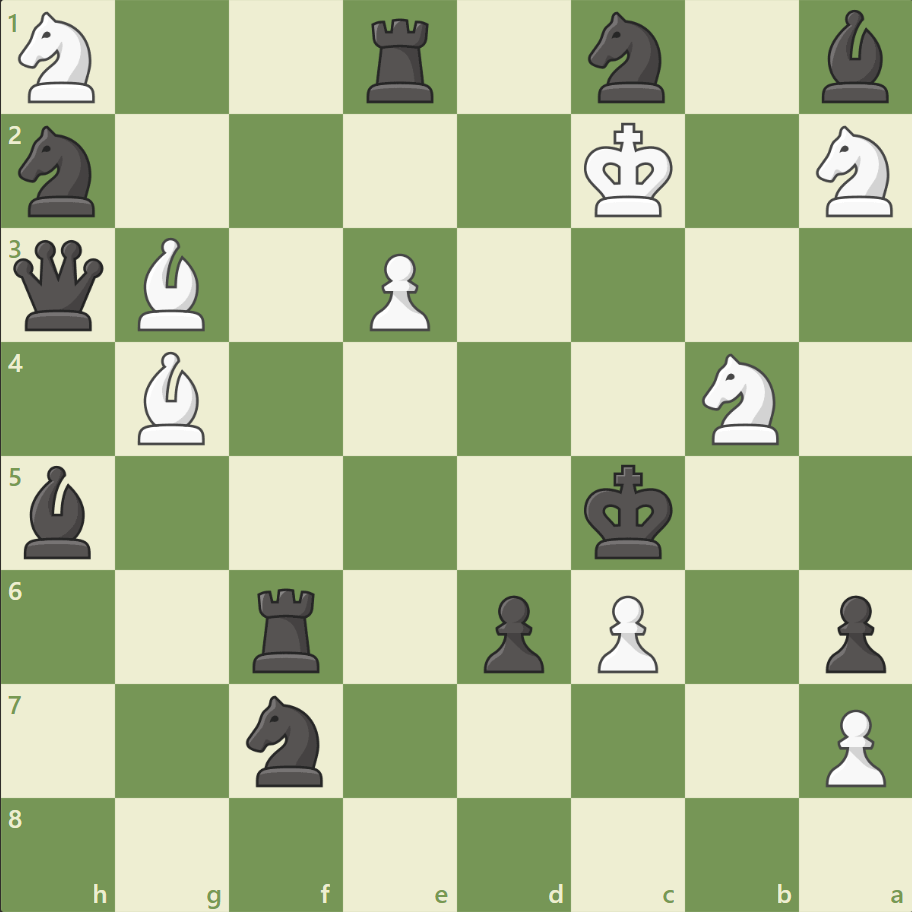B: (131, 233, 215, 336), (131, 347, 215, 449)
K: (579, 117, 679, 225)
N: (11, 7, 108, 110), (692, 348, 789, 450), (806, 121, 903, 223)
P: (815, 700, 889, 791), (588, 586, 662, 677), (361, 246, 435, 337)
b: (17, 460, 101, 563), (812, 6, 896, 109)
k: (579, 458, 679, 566)
n: (238, 688, 335, 791), (579, 7, 676, 110), (11, 121, 108, 223)
p: (474, 586, 549, 677), (815, 586, 889, 677)
q: (10, 236, 109, 335)
r: (246, 579, 329, 676), (360, 12, 442, 109)
